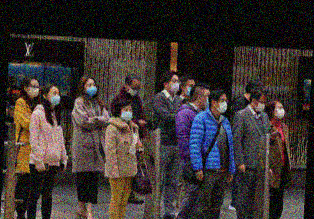with_mask: (27, 82, 41, 99), (48, 90, 62, 106), (120, 106, 134, 122), (217, 96, 229, 114), (85, 81, 98, 97), (168, 77, 181, 93), (254, 99, 268, 112), (274, 104, 286, 119), (127, 85, 140, 96), (202, 91, 210, 108)
